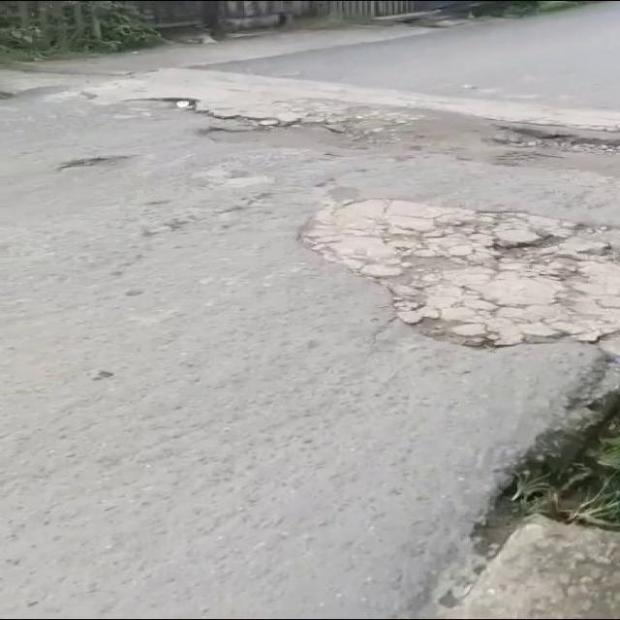lubang: (299, 200, 619, 359), (79, 82, 617, 171), (57, 153, 145, 170)
